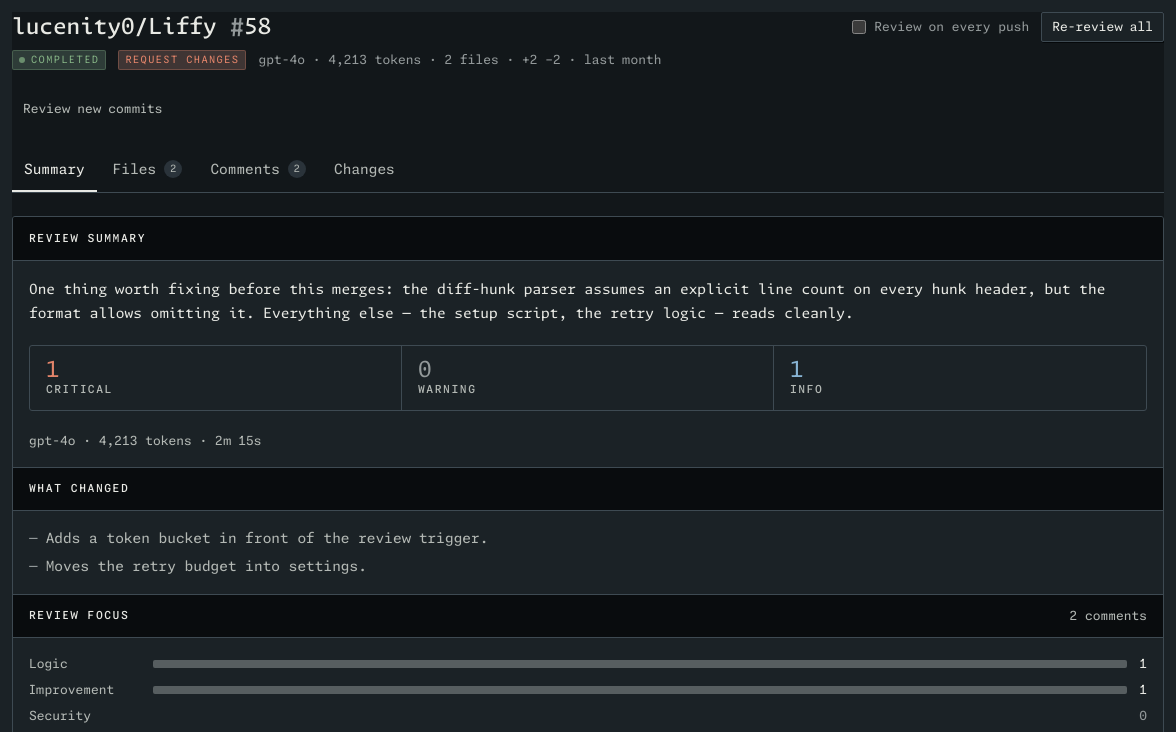
Test: ReviewDetail — re-review › queues a new review and says where it will appear, rather than pretending this one restarted
Check: the text "One thing worth fixing before this merges: the diff-hunk parser assumes an explicit line count on every hunk header, but" is shown, box top-left (29, 281), bottom-right (1105, 321)
Click the button "Re-review all": (1103, 27) top-left (1041, 12), bottom-right (1164, 42)
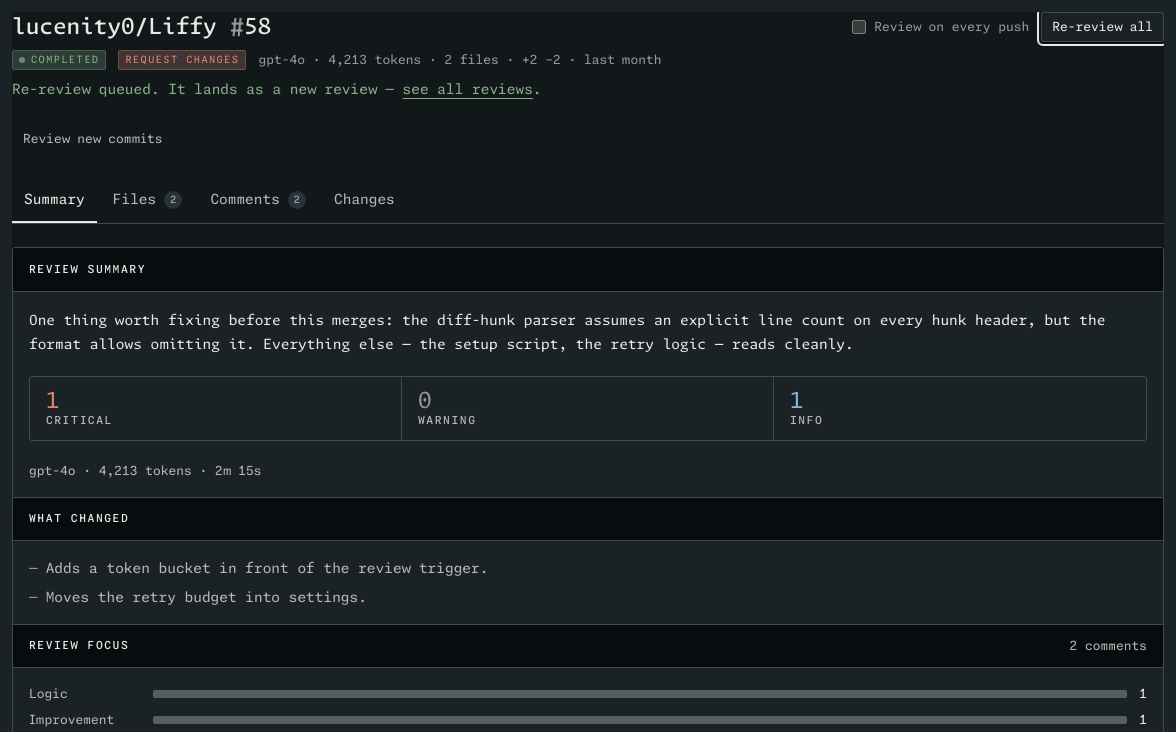
Check: the text "Completed" is shown, box top-left (12, 50), bottom-right (106, 70)
Check: the text "Re-review queued. It lands as a new review — see all reviews ." is shown, box top-left (12, 81), bottom-right (542, 97)
